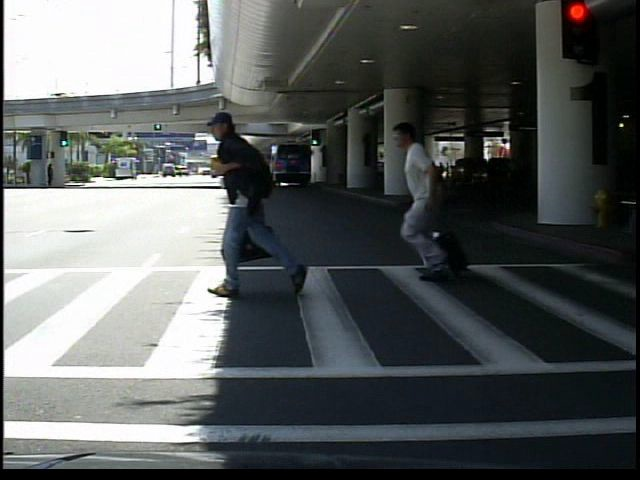person: (208, 116, 294, 301), (399, 112, 462, 282)
